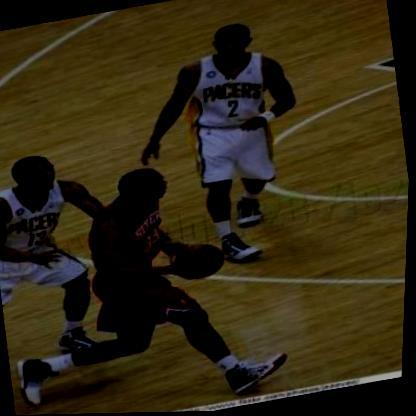basketball: (169, 232, 229, 288)
